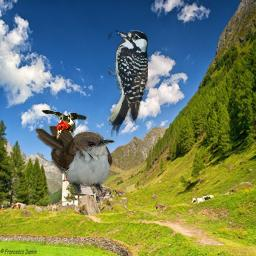Cuckoo: (35, 125, 116, 197)
Woodpecker: (108, 29, 148, 137), (39, 107, 87, 140)
